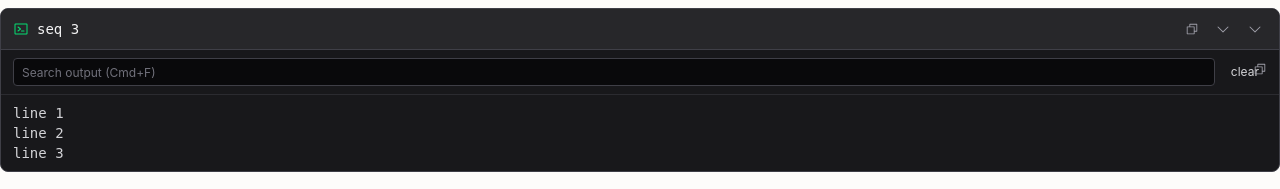
Test case: BashDisplay › Terminal search and output controls › clears terminal search with Cmd+K
In the field with test id "terminal-search-input": (614, 72) x1=13 y1=58 x2=1215 y2=86, type "line 1"
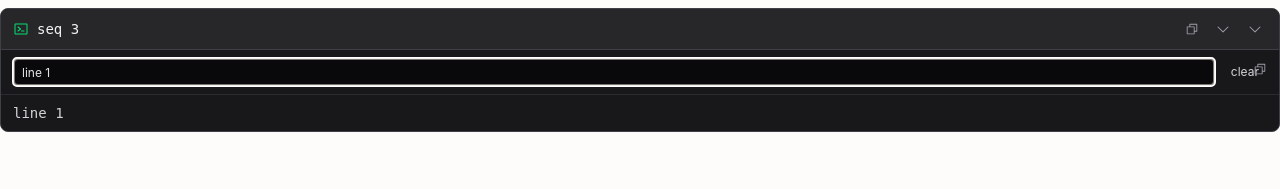
Press k in the element with test id "terminal-card"
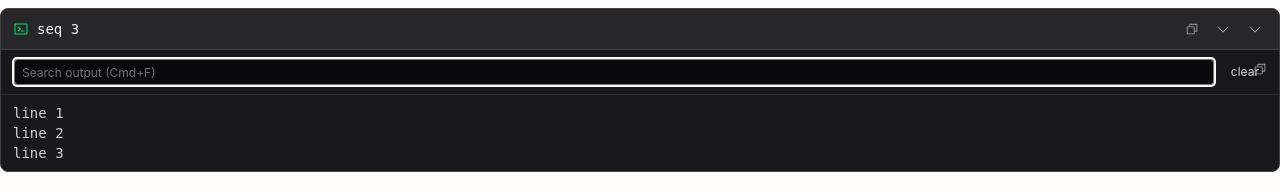
Check: the field with test id "terminal-search-input" is empty, box x1=13 y1=58 x2=1215 y2=86
